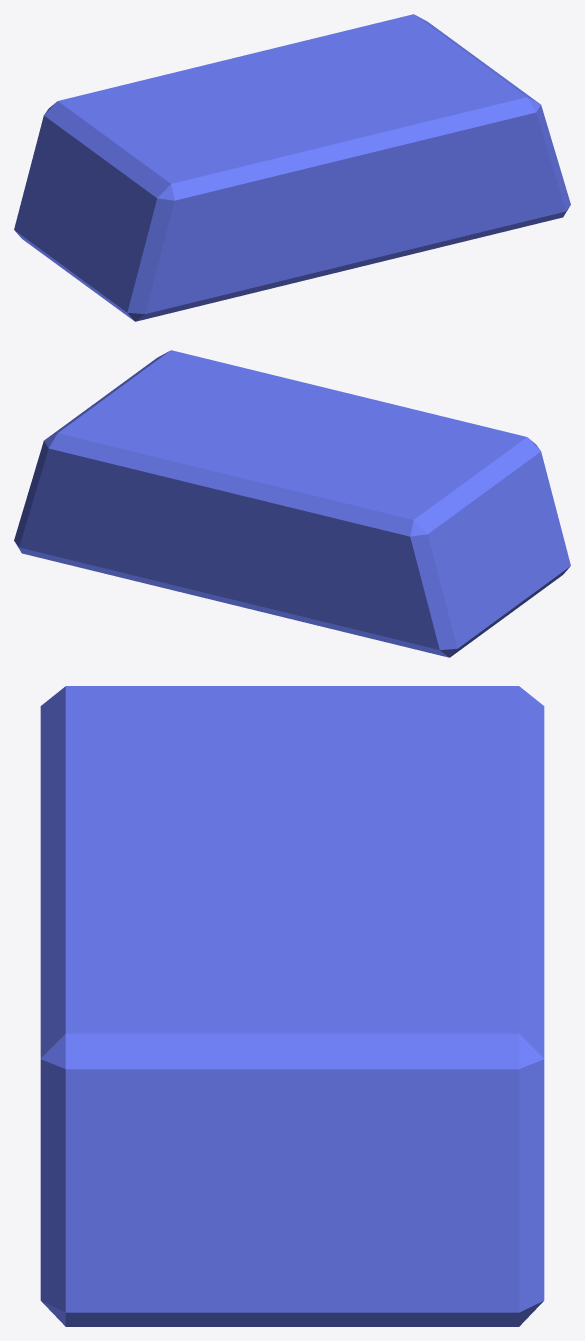
Rendered from MetalIngot.fbx.
The picture shows the model from 3 angles, top to bottom: view 1: azimuth 30°, elevation 25°; view 2: azimuth 150°, elevation 25°; view 3: azimuth 270°, elevation 25°; orthographic projection. The views are drawn at different scales.
Visible parts, largest first — view 1: MetalIngot; view 2: MetalIngot; view 3: MetalIngot.
Part boxes in pixels (left/top/right/bottom): MetalIngot: left=14, top=14, right=570, bottom=321; MetalIngot: left=14, top=350, right=570, bottom=657; MetalIngot: left=40, top=686, right=544, bottom=1326.
Bounding box in the file's own units: 4.07 × 1.13 × 2.
